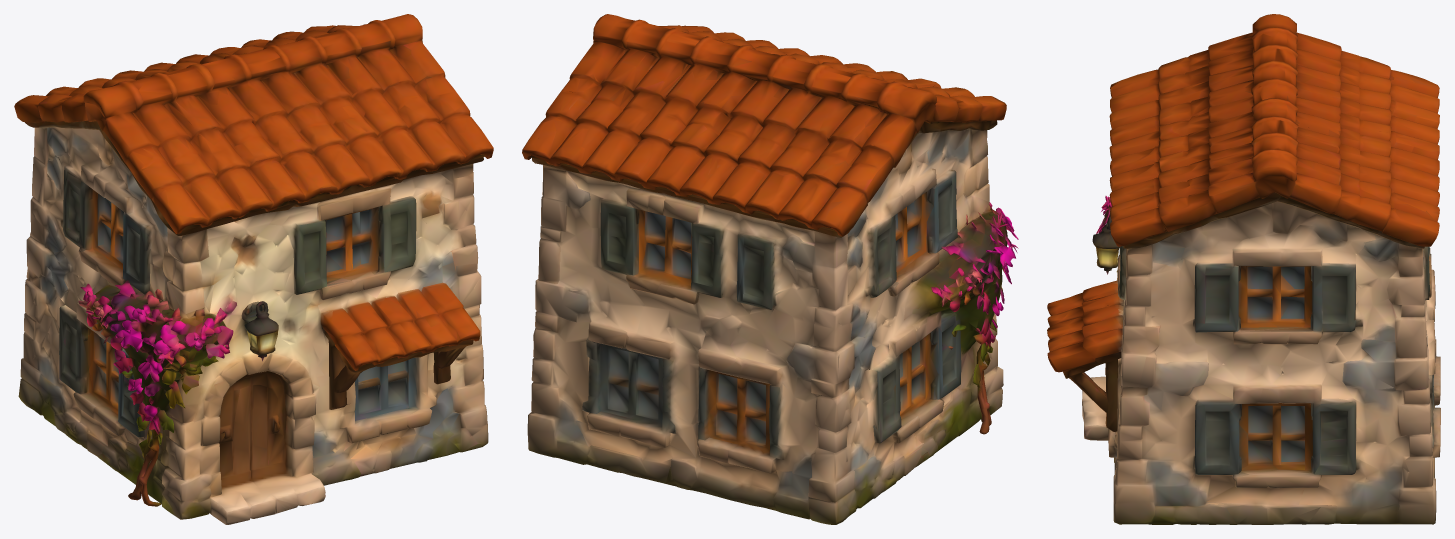
File: Piece09.fbx
The picture shows the model from 3 angles, left to right: view 1: azimuth 30°, elevation 25°; view 2: azimuth 150°, elevation 25°; view 3: azimuth 270°, elevation 25°; orthographic projection. The views are drawn at different scales.
Parts seen in each view (by area): view 1: Piece09; view 2: Piece09; view 3: Piece09.
Part boxes in pixels (x1=…): Piece09: x1=14, y1=14, x2=493, y2=524; Piece09: x1=522, y1=14, x2=1018, y2=524; Piece09: x1=1047, y1=14, x2=1440, y2=524.
Size of the model in its own units: 98.48 by 99.99 by 97.87.
1 material, 1 textured.
